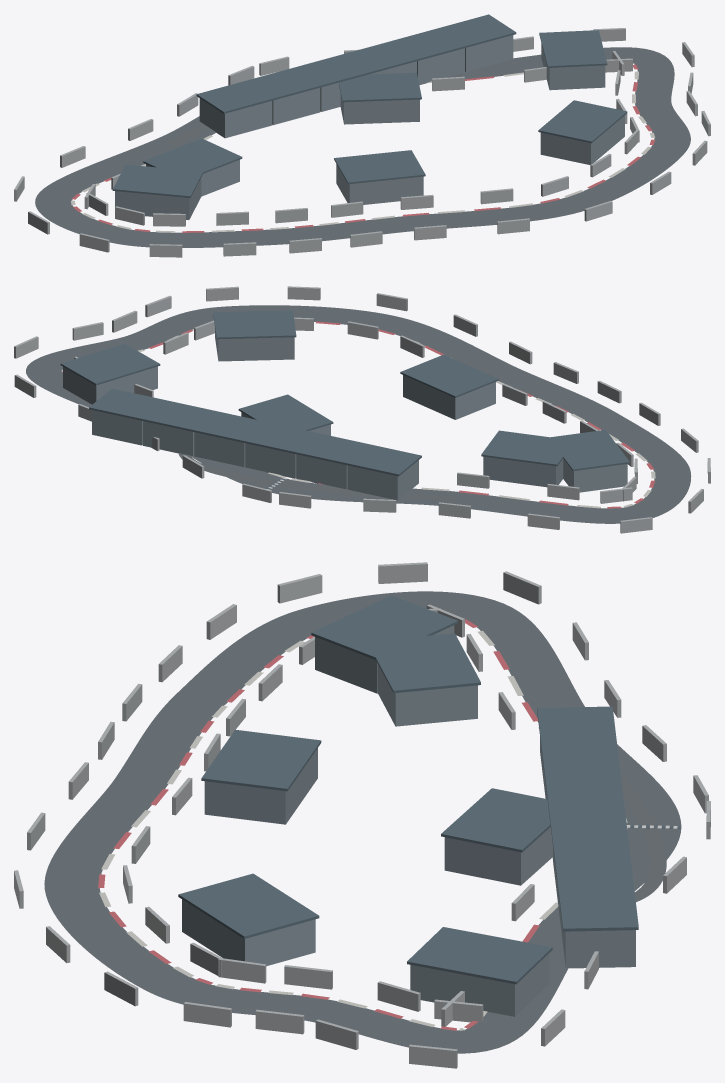
The picture shows the model from 3 angles, top to bottom: view 1: azimuth 30°, elevation 25°; view 2: azimuth 150°, elevation 25°; view 3: azimuth 270°, elevation 25°; orthographic projection. The views are drawn at different scales.
Visible parts, largest first — view 1: asphalt, grandstand_roof_3, grandstand_roof_2, grandstand_roof_1, grandstand_roof_4, grandstand_roof_5, grandstand_roof_0, grandstand_2, grandstand_3, pit_building_0, grandstand_0, grandstand_4 (+29 smaller); view 2: asphalt, grandstand_roof_1, grandstand_roof_3, grandstand_roof_2, grandstand_roof_4, grandstand_3, grandstand_roof_5, grandstand_roof_0, grandstand_2, grandstand_5, pit_building_0, grandstand_1 (+27 smaller); view 3: asphalt, grandstand_roof_1, grandstand_roof_2, grandstand_roof_3, grandstand_roof_5, grandstand_roof_4, grandstand_roof_0, grandstand_2, grandstand_1, grandstand_3, grandstand_0, grandstand_5 (+20 smaller).
Boxes of the visible parts, x1,y1,x2,y2 form: asphalt: (35, 47, 690, 247); grandstand_roof_3: (334, 150, 425, 184); grandstand_roof_2: (538, 100, 627, 143); grandstand_roof_1: (539, 30, 607, 67); grandstand_roof_4: (112, 164, 202, 197); grandstand_roof_5: (143, 138, 242, 179); grandstand_roof_0: (339, 72, 421, 102); grandstand_2: (540, 115, 624, 164); grandstand_3: (336, 164, 423, 204); pit_building_0: (199, 98, 272, 138); grandstand_0: (340, 94, 419, 124); grandstand_4: (115, 178, 201, 219); asphalt: (26, 305, 691, 523); grandstand_roof_1: (60, 343, 160, 385); grandstand_roof_3: (400, 354, 498, 397); grandstand_roof_2: (213, 310, 296, 339); grandstand_roof_4: (549, 430, 629, 471); grandstand_3: (403, 375, 495, 419); grandstand_roof_5: (481, 430, 563, 466); grandstand_roof_0: (238, 394, 333, 430); grandstand_2: (215, 328, 294, 361); grandstand_5: (483, 456, 563, 487); pit_building_0: (347, 460, 418, 500); grandstand_1: (63, 366, 157, 404); asphalt: (44, 591, 681, 1053); grandstand_roof_1: (407, 927, 552, 984); grandstand_roof_2: (178, 873, 319, 938); grandstand_roof_3: (201, 729, 321, 791); grandstand_roof_5: (367, 633, 480, 693); grandstand_roof_4: (311, 595, 457, 659); grandstand_roof_0: (441, 788, 550, 852); grandstand_2: (182, 899, 315, 966); grandstand_1: (410, 953, 549, 1016); grandstand_3: (204, 748, 317, 824); grandstand_0: (444, 827, 552, 885); grandstand_5: (378, 664, 477, 726).
Bounding box in the file's own units: 65.71 × 2.64 × 39.6.
